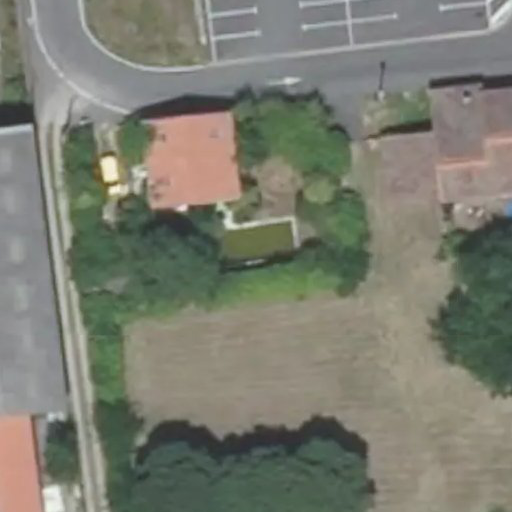pool: (211, 228, 299, 255)
